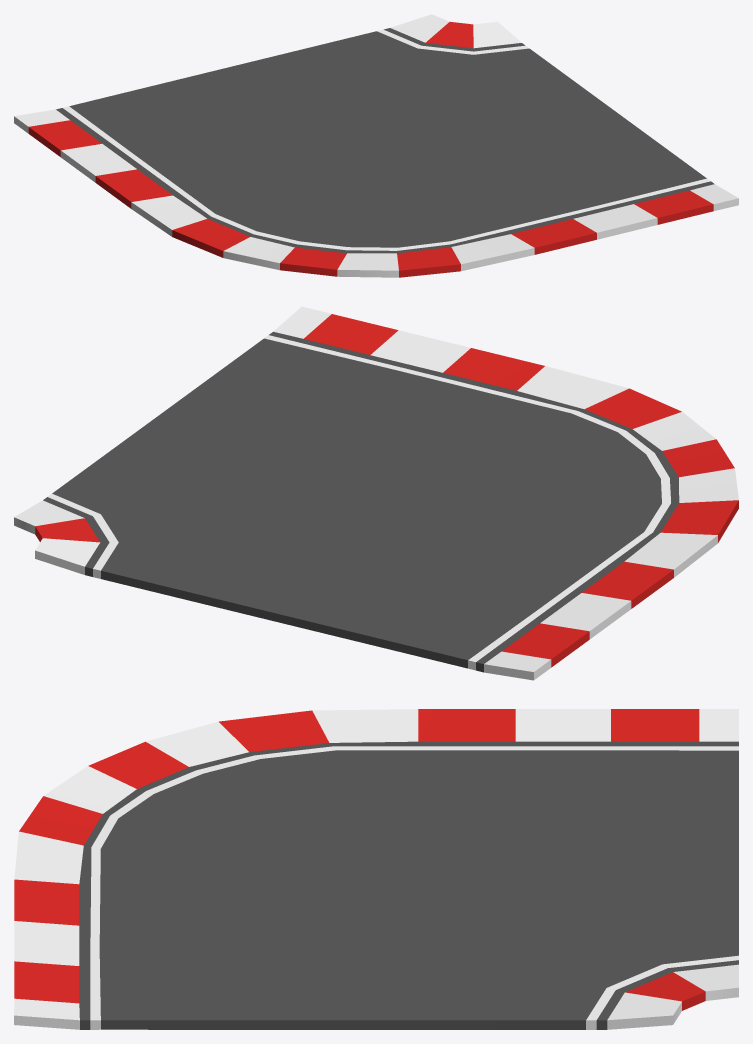
The model's file is Track 90d .fbx.
3 renders of one model, top to bottom at view 1: azimuth 30°, elevation 25°; view 2: azimuth 150°, elevation 25°; view 3: azimuth 270°, elevation 25°, orthographic. The views are drawn at different scales.
Visible parts, largest first — view 1: Track_Corner_90d_type_01_15x15m_free; view 2: Track_Corner_90d_type_01_15x15m_free; view 3: Track_Corner_90d_type_01_15x15m_free.
Part boxes in pixels (x1,y1,x2,y2): Track_Corner_90d_type_01_15x15m_free: (14,14,738,277); Track_Corner_90d_type_01_15x15m_free: (14,306,738,680); Track_Corner_90d_type_01_15x15m_free: (14,709,738,1029).
Size of the model in its own units: 1375 by 30 by 1375.
